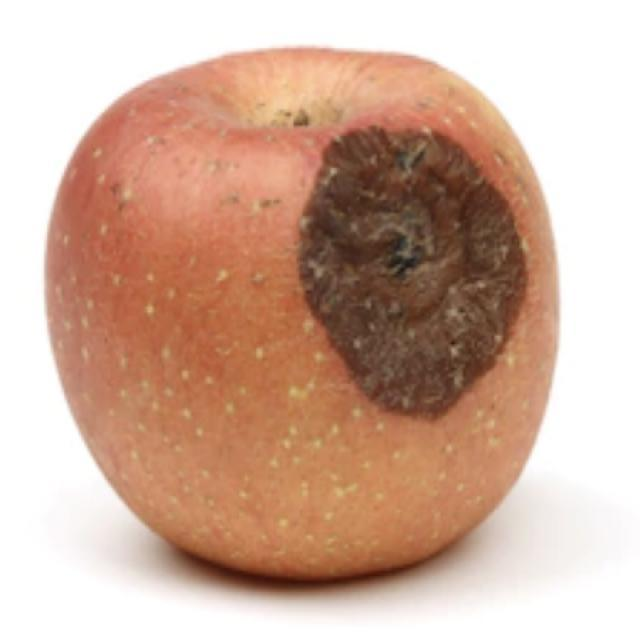Rotten: (32, 55, 573, 567)
